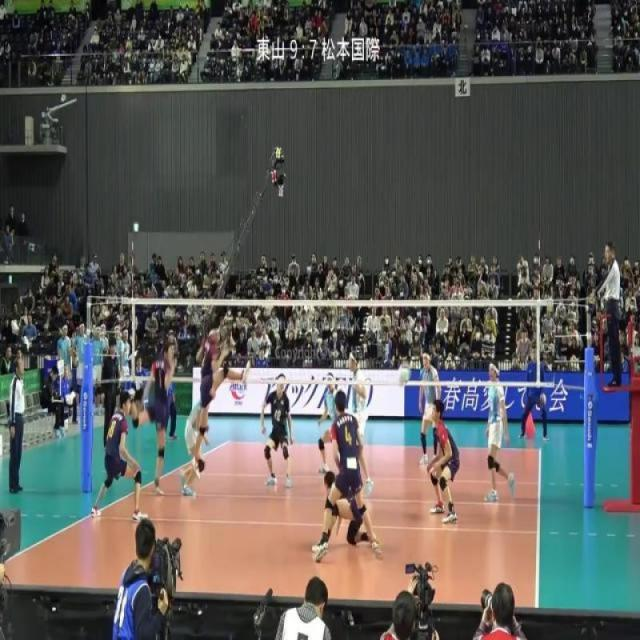volleyball: (398, 363, 411, 384)
